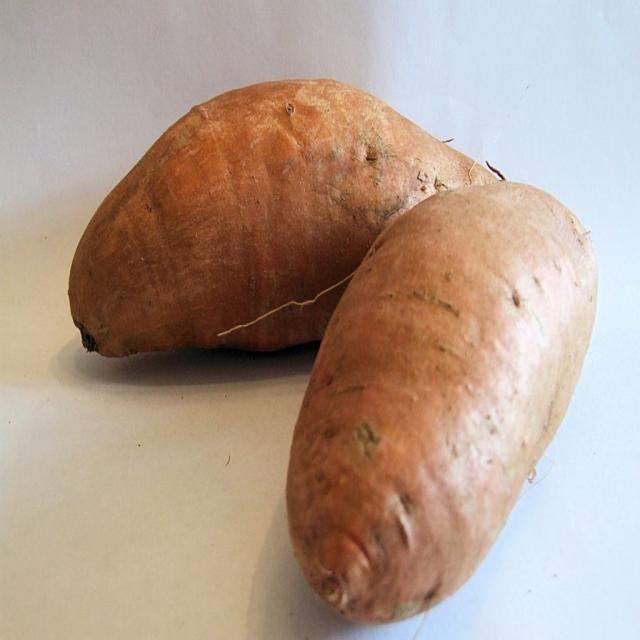Sweet Potato: (283, 182, 602, 618), (65, 62, 324, 364)
